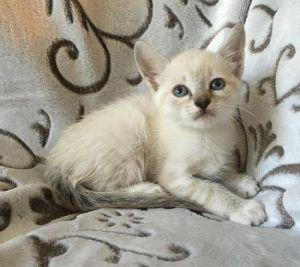siamese: (133, 19, 252, 135)
